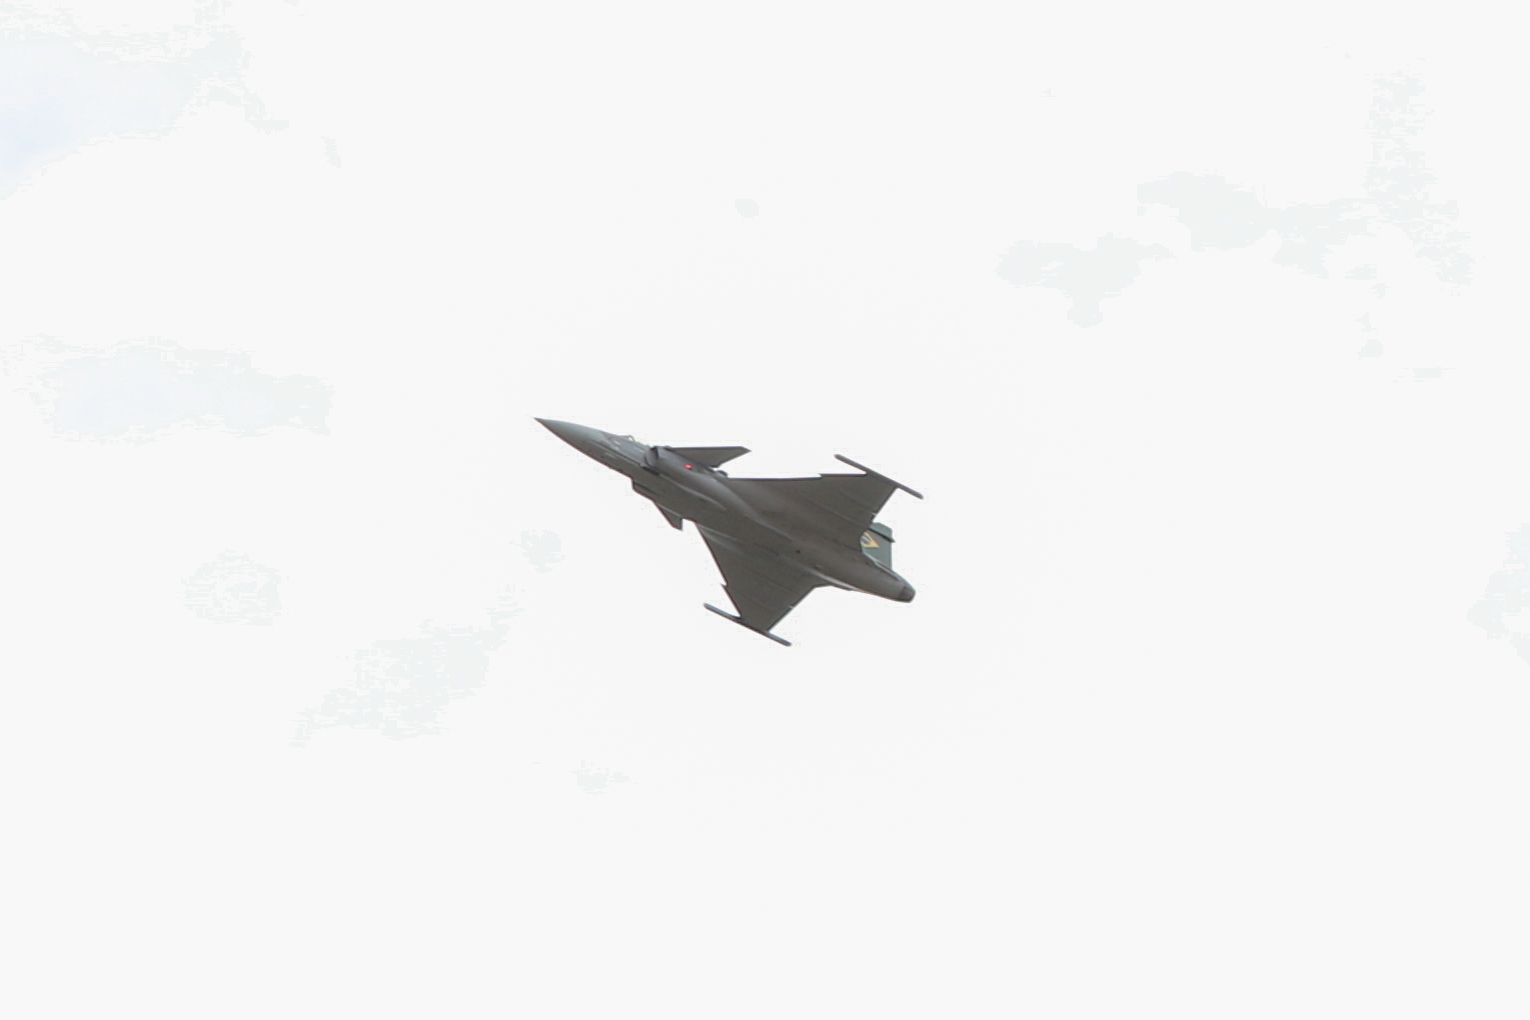JAS39: (523, 412, 924, 647)
